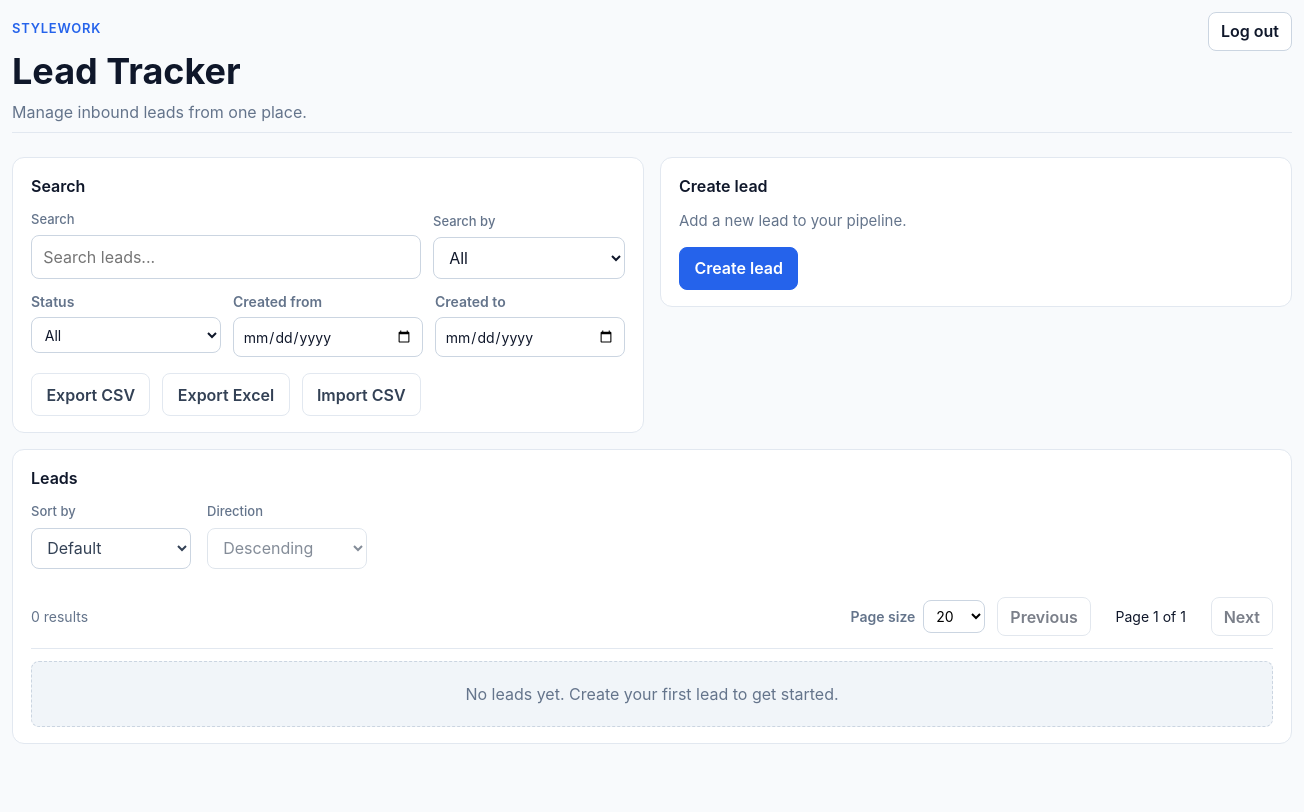
Test case: LeadTrackerPage › pagination and filters › shows an empty filtered state when no leads match
Expected: the text "0 results" is shown, [31,606,88,627]
Select "Lost" in the dropdown named "Filter by status": (126, 335) [31,318,221,353]
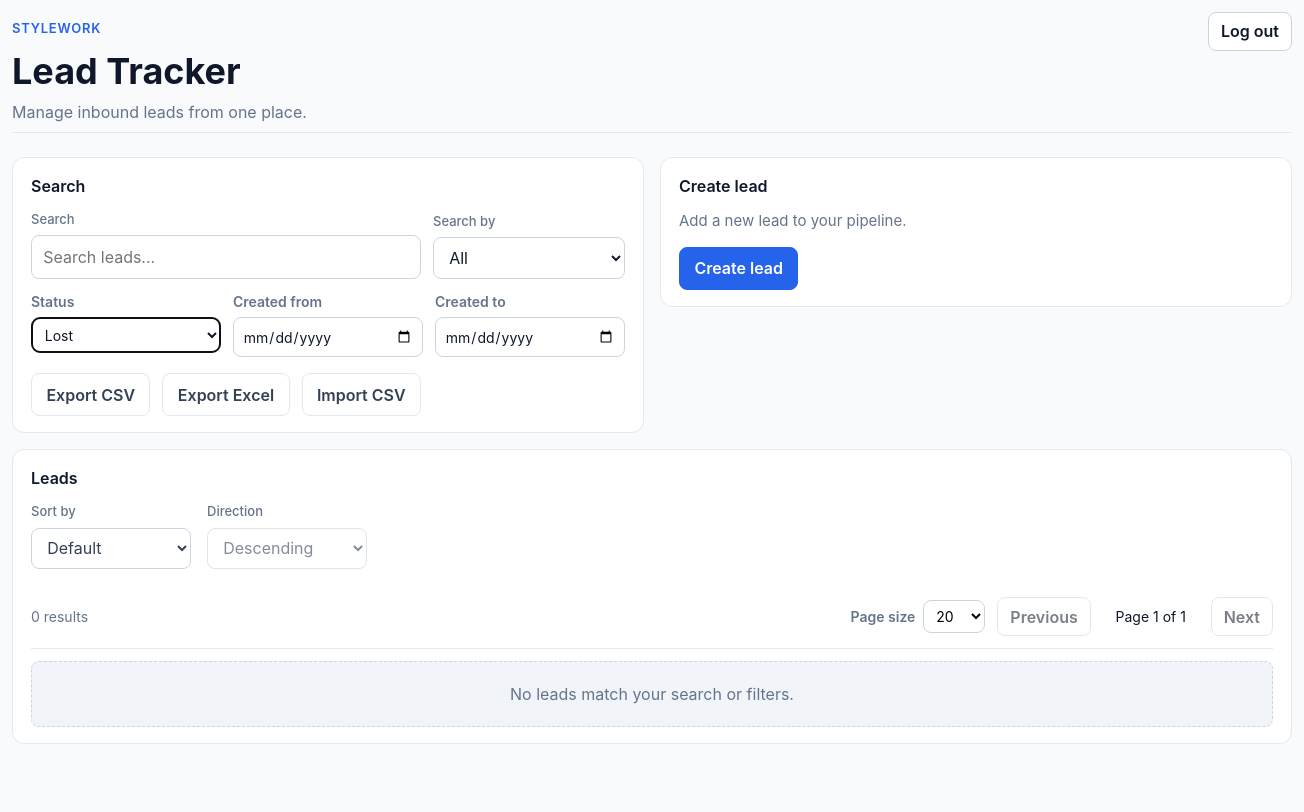
Result: the text "No leads match your search or filters." is shown at [510,684,794,704]
